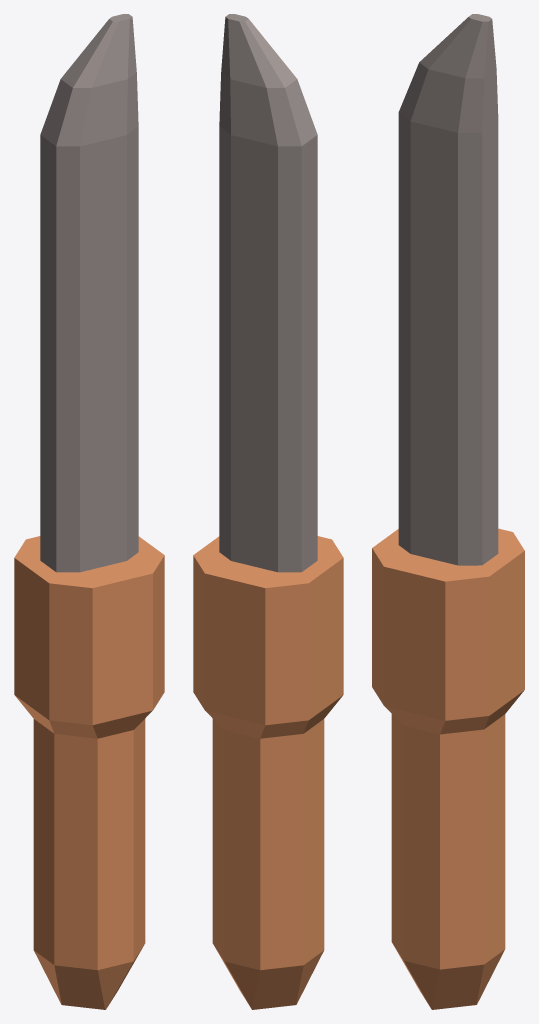
The model's file is dagger.fbx.
The picture shows the model from 3 angles, left to right: view 1: azimuth 30°, elevation 25°; view 2: azimuth 150°, elevation 25°; view 3: azimuth 330°, elevation 25°; orthographic projection.
Visible parts, largest first — view 1: dagger; view 2: dagger; view 3: dagger.
Boxes of the visible parts, box(x1,y1,x2,y2) form: dagger: box(14, 14, 164, 1009); dagger: box(193, 14, 343, 1009); dagger: box(372, 14, 524, 1009).
Bounding box in the file's own units: 5.94 × 47.81 × 5.94.
